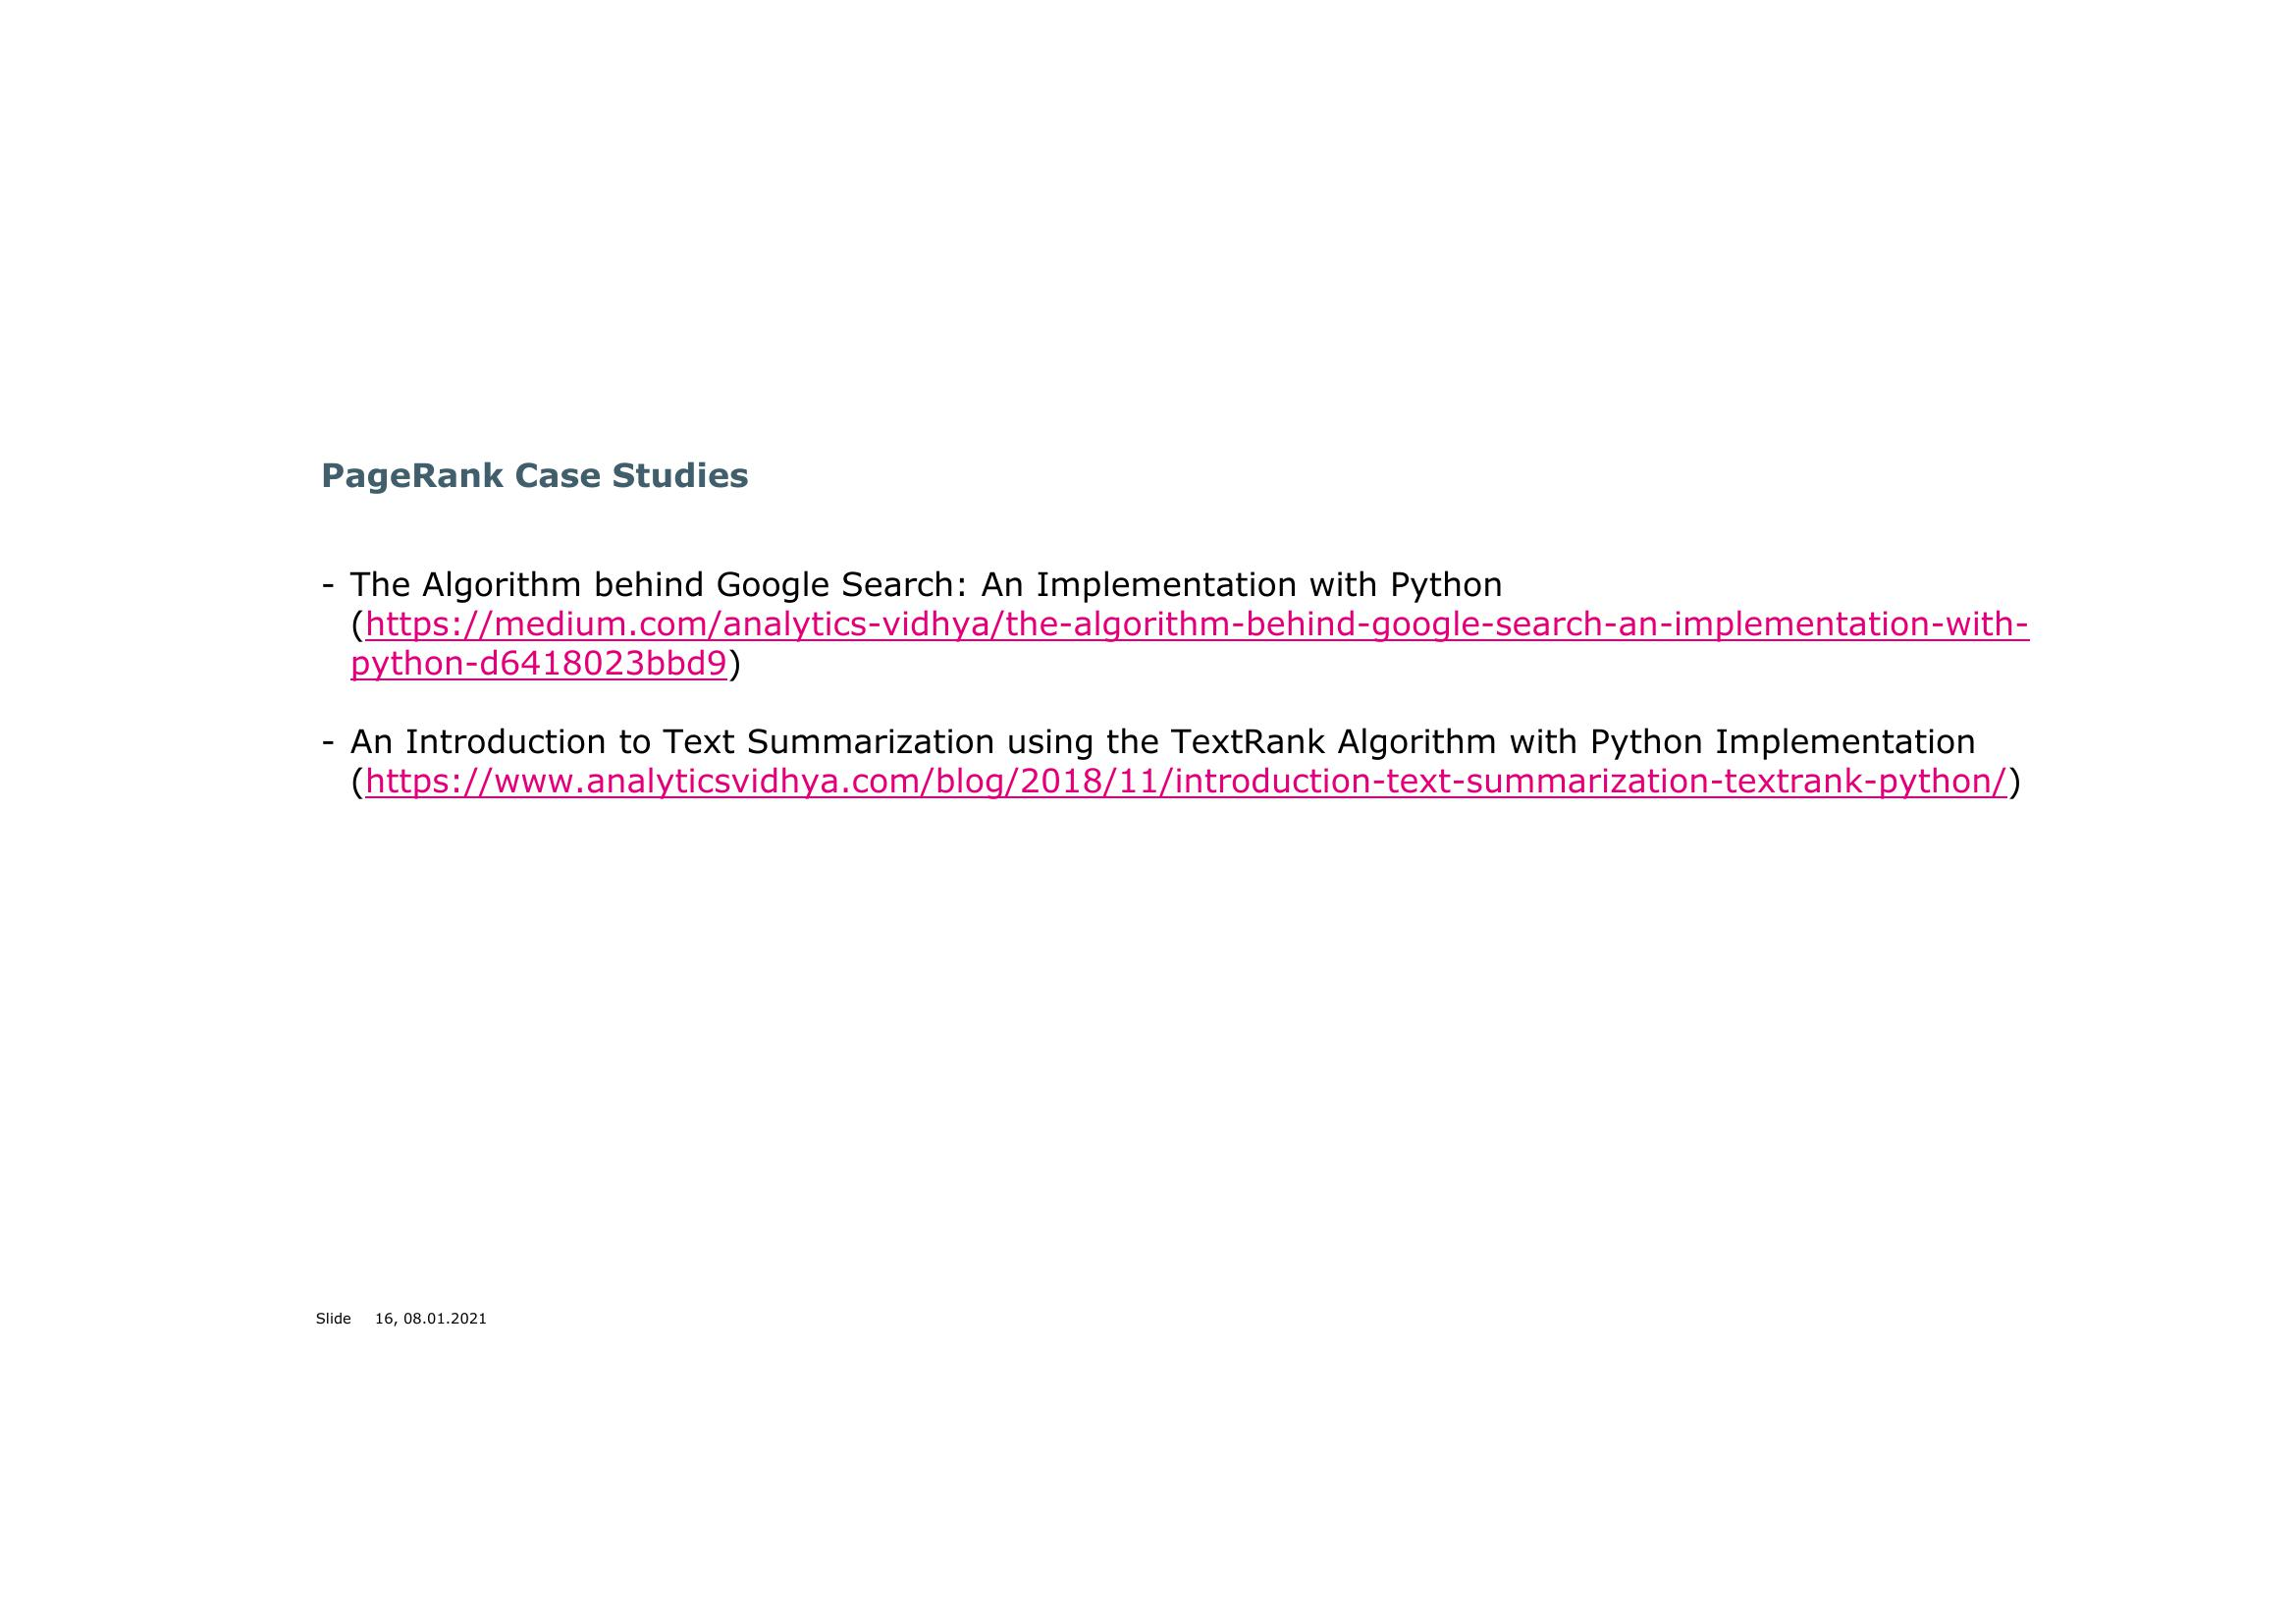Title: (316, 445, 769, 501)
